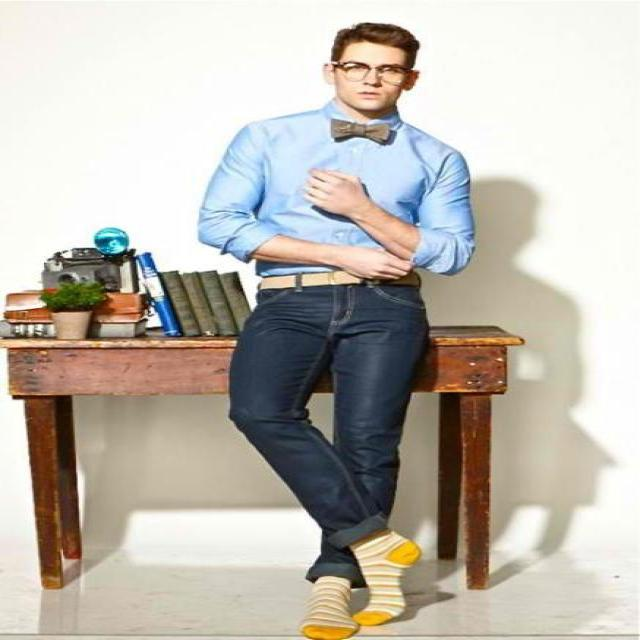glasses: (332, 60, 412, 86)
